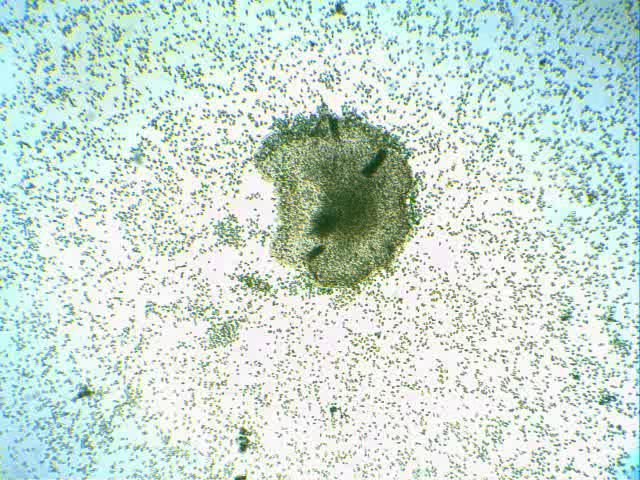Placozoan: (252, 110, 413, 288)
